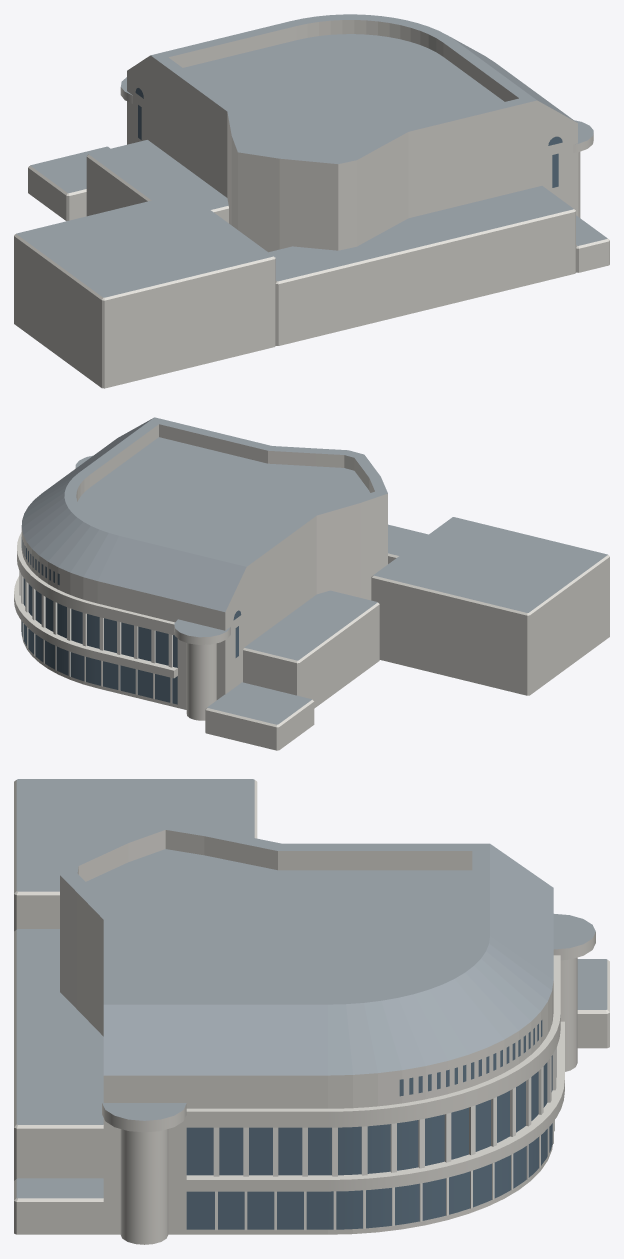
Rendered from sf-davies-symphony-hall.glb.
3 renders of one model, top to bottom at view 1: azimuth 30°, elevation 25°; view 2: azimuth 150°, elevation 25°; view 3: azimuth 270°, elevation 25°, orthographic. The views are drawn at different scales.
Visible parts, largest first — view 1: Louise M. Davies Symphony Hall; view 2: Louise M. Davies Symphony Hall; view 3: Louise M. Davies Symphony Hall.
Boxes of the visible parts, x1,y1,x2,y2 form: Louise M. Davies Symphony Hall: (14, 14, 609, 388); Louise M. Davies Symphony Hall: (14, 417, 609, 750); Louise M. Davies Symphony Hall: (14, 779, 609, 1244).
Size of the model in its own units: 118 by 31.8 by 84.5.
